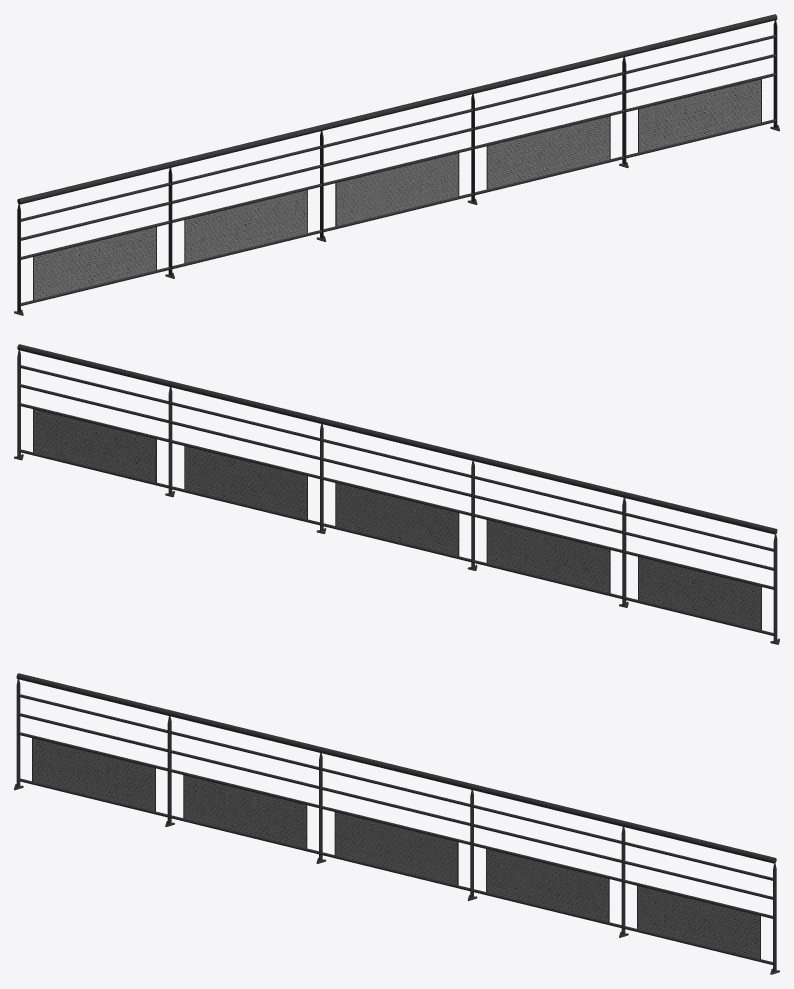
Rendered from railing.obj.
The picture shows the model from 3 angles, top to bottom: view 1: azimuth 30°, elevation 25°; view 2: azimuth 150°, elevation 25°; view 3: azimuth 330°, elevation 25°; orthographic projection.
Parts seen in each view (by area): view 1: default_1_1, Cube_1_4, Cube_1_3, Cube_1_5, Cube_1_2, Cube_1_6; view 2: default_1_1, Cube_1_3, Cube_1_4, Cube_1_5, Cube_1_6, Cube_1_2; view 3: default_1_1, Cube_1_4, Cube_1_3, Cube_1_5, Cube_1_6, Cube_1_2.
Part boxes in pixels (bbox=[...]): default_1_1: bbox=[14, 14, 779, 315]; Cube_1_4: bbox=[336, 153, 458, 225]; Cube_1_3: bbox=[185, 190, 307, 262]; Cube_1_5: bbox=[487, 116, 609, 189]; Cube_1_2: bbox=[34, 227, 155, 299]; Cube_1_6: bbox=[639, 79, 760, 152]; default_1_1: bbox=[14, 344, 779, 644]; Cube_1_3: bbox=[487, 520, 609, 592]; Cube_1_4: bbox=[336, 483, 458, 555]; Cube_1_5: bbox=[185, 446, 306, 519]; Cube_1_6: bbox=[34, 409, 155, 482]; Cube_1_2: bbox=[639, 557, 760, 629]; default_1_1: bbox=[14, 673, 779, 974]; Cube_1_4: bbox=[335, 812, 457, 884]; Cube_1_3: bbox=[184, 775, 306, 848]; Cube_1_5: bbox=[486, 849, 608, 921]; Cube_1_6: bbox=[638, 886, 759, 958]; Cube_1_2: bbox=[33, 738, 154, 811].
Size of the model in its own units: 736 by 105 by 9.
